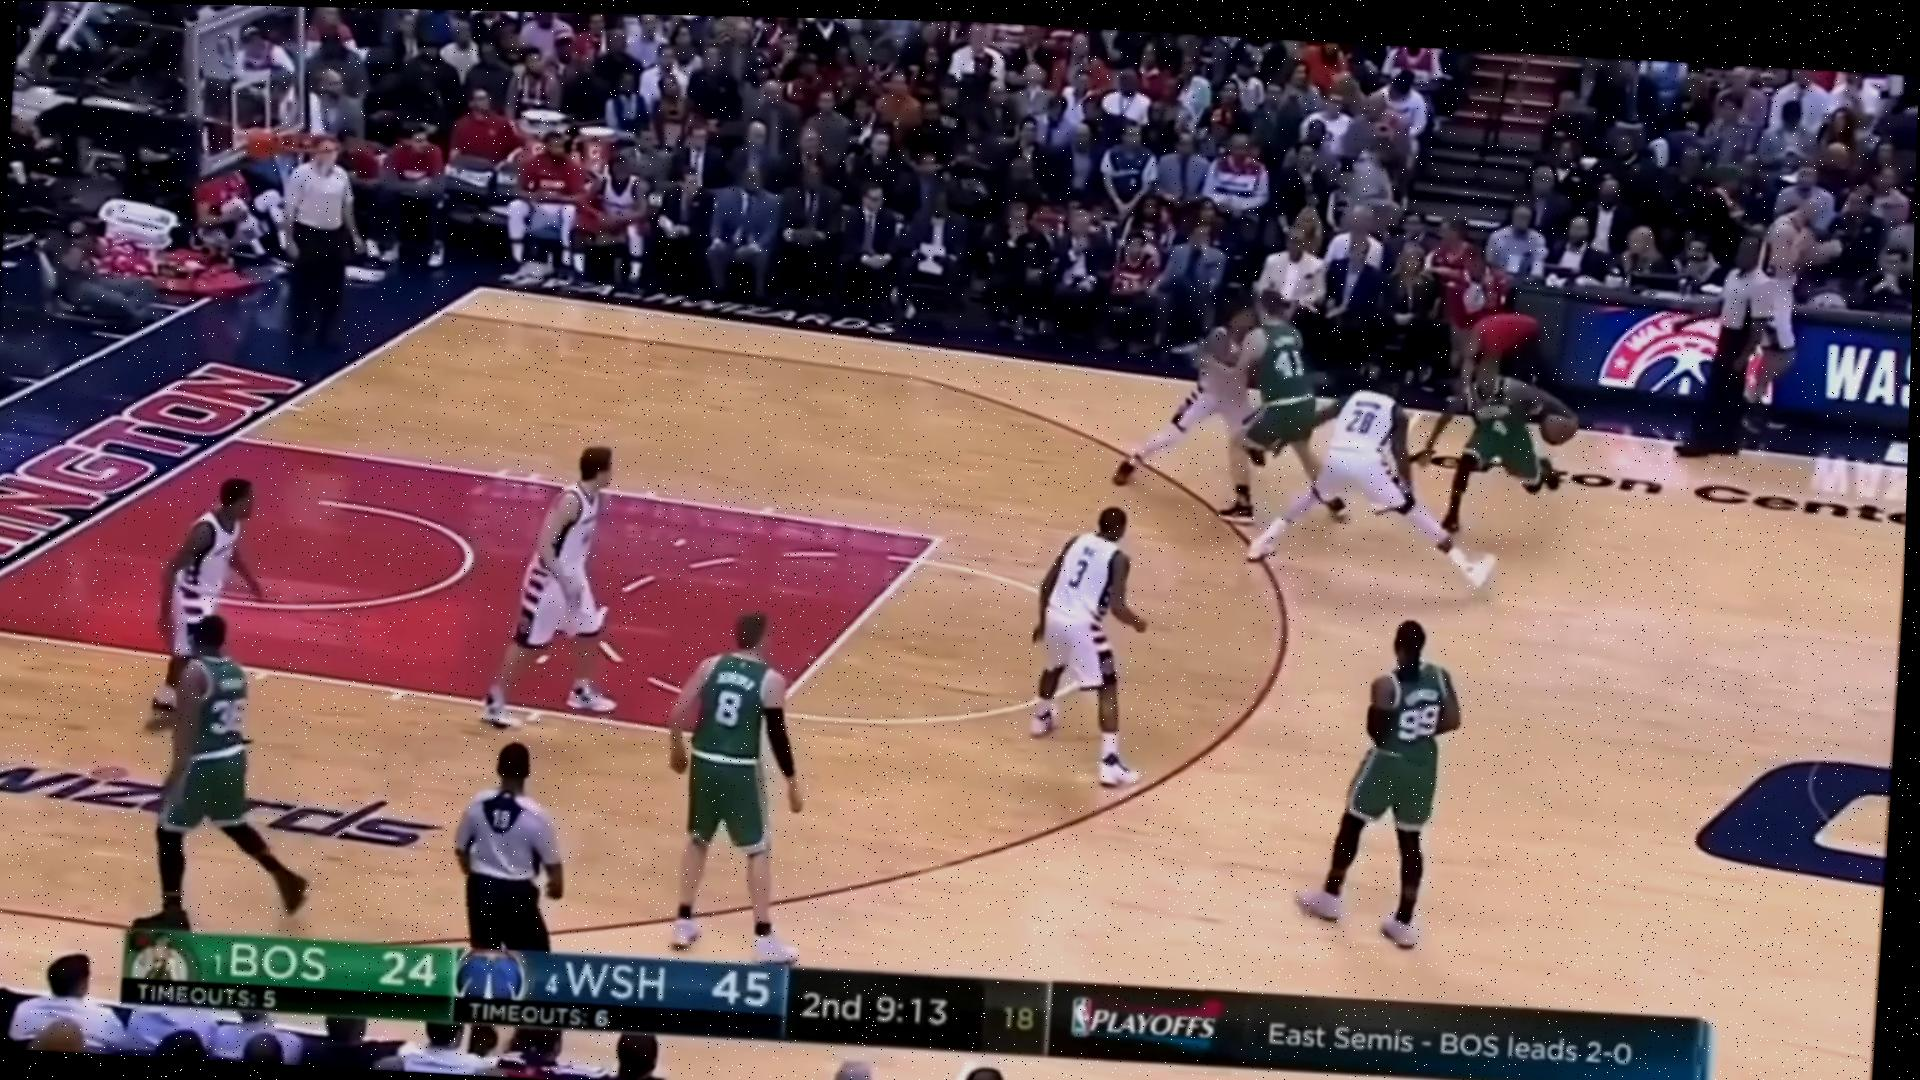foul: (1151, 267, 1354, 553)
